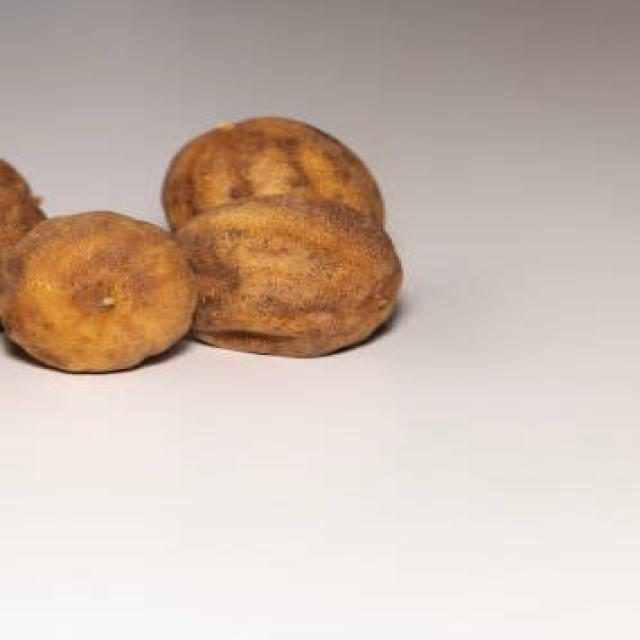overripe: (187, 190, 401, 357), (0, 208, 201, 376), (162, 112, 381, 201)
